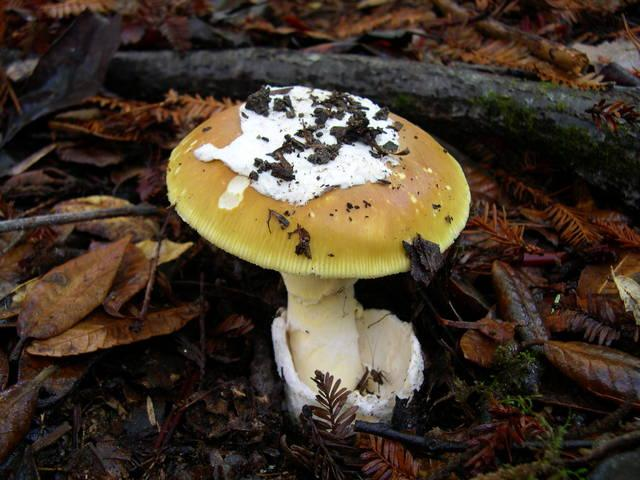Edible Mushroom: (164, 82, 472, 433)
